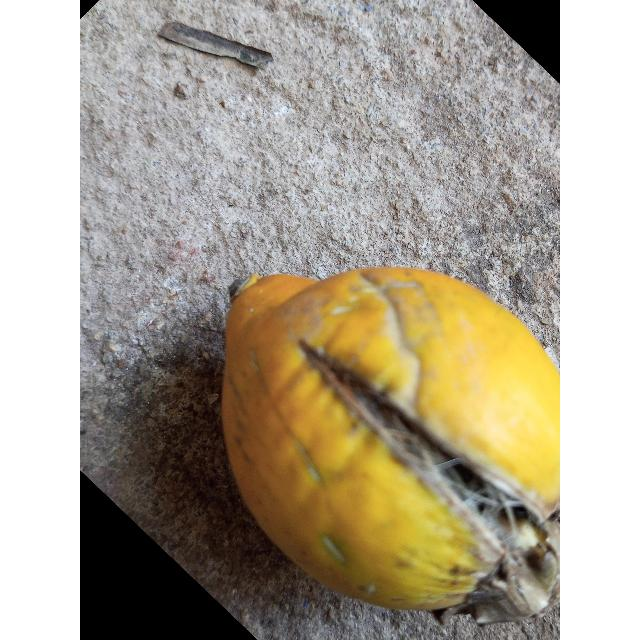damaged: (222, 268, 560, 624)
